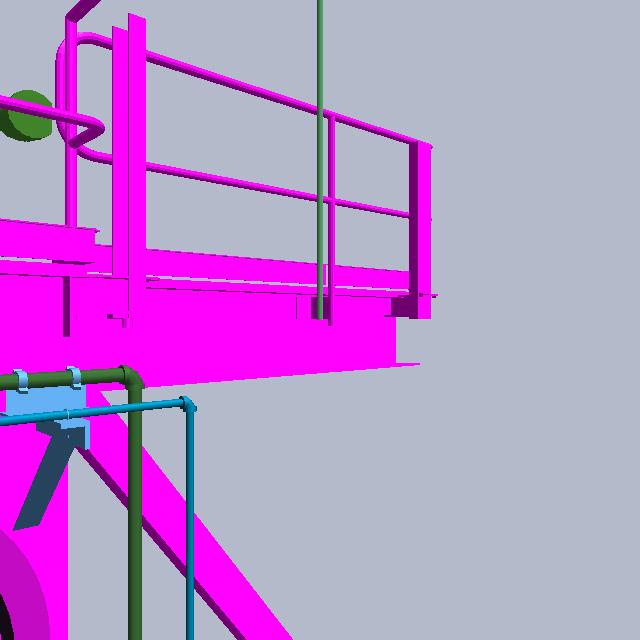Poste: (309, 1, 330, 329)
Soporte: (85, 5, 158, 339), (388, 133, 436, 325)
